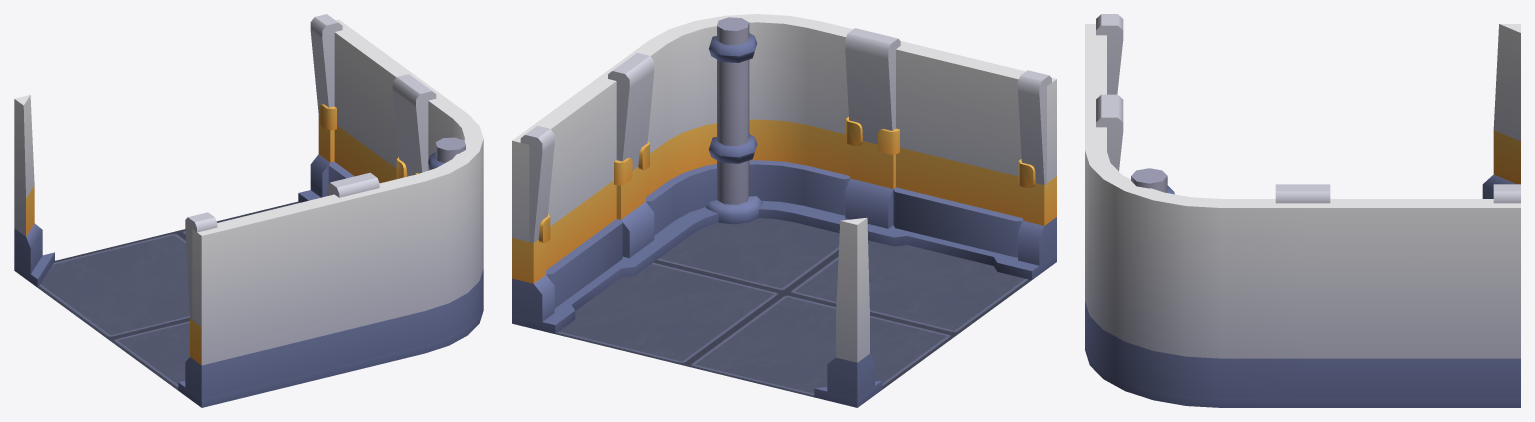
Rendered from kenney-space-corridor-wide-corner.glb.
The picture shows the model from 3 angles, left to right: view 1: azimuth 30°, elevation 25°; view 2: azimuth 150°, elevation 25°; view 3: azimuth 270°, elevation 25°; orthographic projection. The views are drawn at different scales.
Parts seen in each view (by area): view 1: corridor-wide-corner; view 2: corridor-wide-corner; view 3: corridor-wide-corner.
Boxes of the visible parts, x1,y1,x2,y2 form: corridor-wide-corner: (14, 14, 483, 407); corridor-wide-corner: (512, 14, 1056, 407); corridor-wide-corner: (1085, 14, 1520, 407).
Size of the model in its own units: 6 by 3.19 by 6.
1 material, 1 textured.
